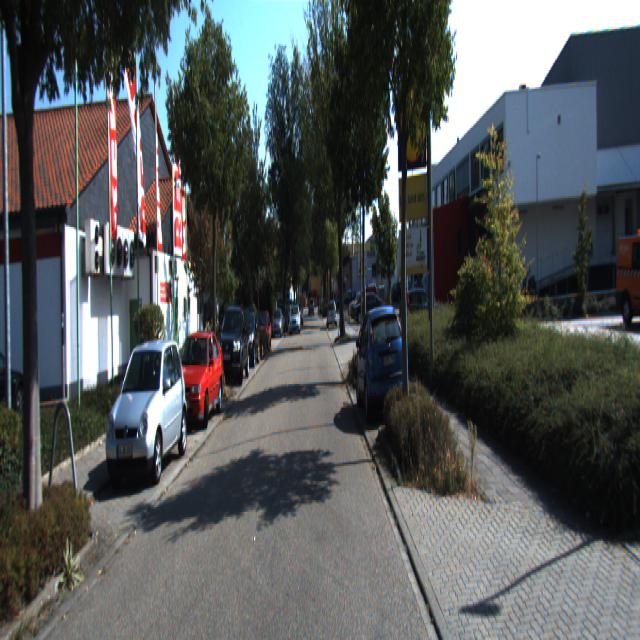Car: (104, 335, 188, 488), (354, 299, 406, 420), (171, 326, 225, 427), (217, 305, 251, 388), (614, 228, 640, 332), (234, 310, 261, 371), (327, 300, 337, 328)
